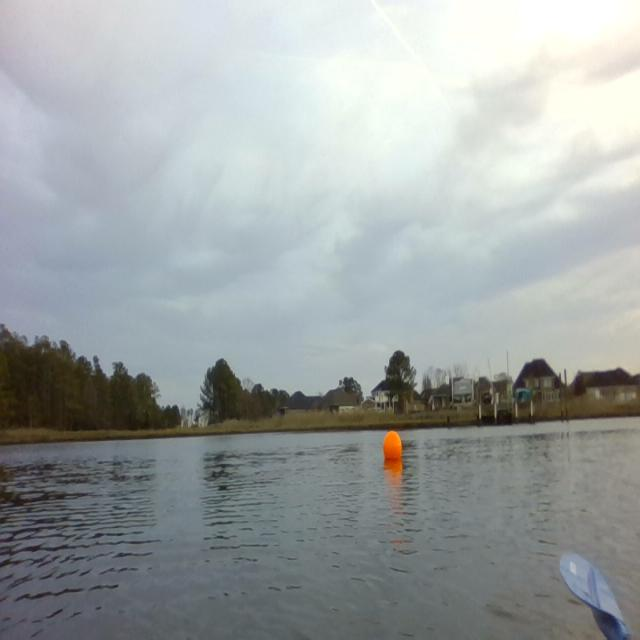Buoy: (382, 430, 403, 462)
